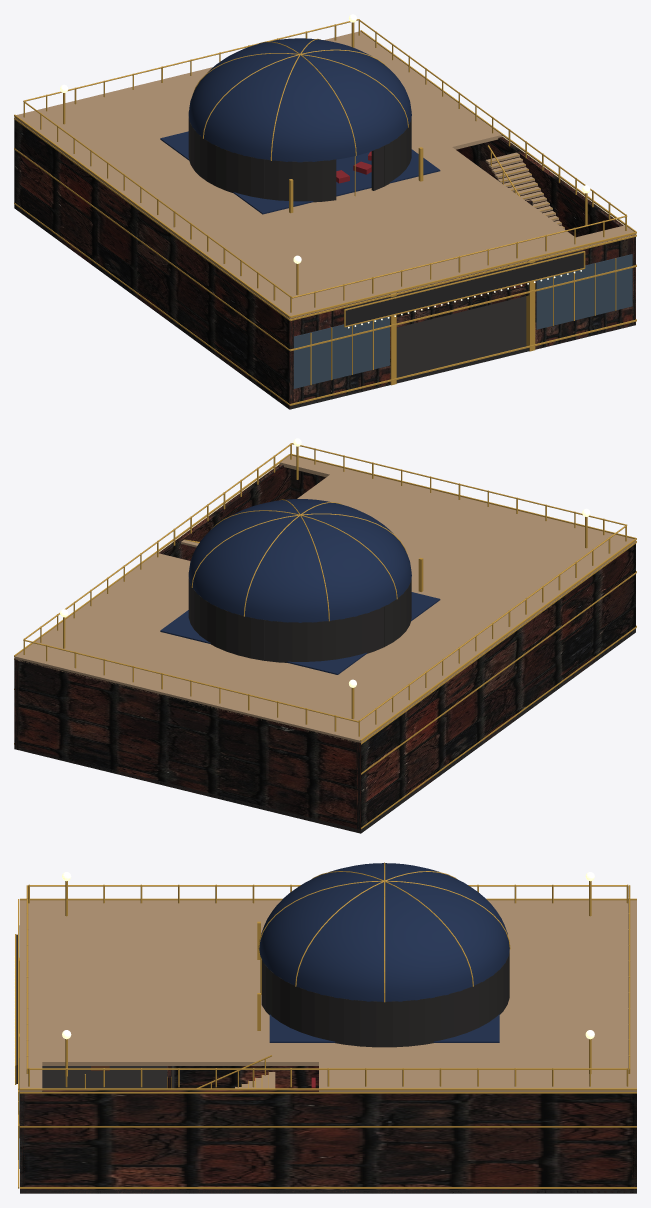
File: cinema-planetarium-v2.glb
The picture shows the model from 3 angles, top to bottom: view 1: azimuth 30°, elevation 25°; view 2: azimuth 150°, elevation 25°; view 3: azimuth 270°, elevation 25°; orthographic projection. The views are drawn at different scales.
Parts seen in each view (by area): view 1: CinemaExterior_Sandstone, CinemaExterior_Oxblood brick, CinemaExterior_Planetarium midnight, CinemaExterior_Black lacquer, CinemaExterior_Warm brass, CinemaExterior_Smoked window, PlanetariumInterior_Planetarium midnight, CinemaInterior_Sandstone, CinemaInterior_Warm brass; view 2: CinemaExterior_Oxblood brick, CinemaExterior_Sandstone, CinemaExterior_Planetarium midnight, CinemaExterior_Black lacquer, CinemaExterior_Warm brass, PlanetariumInterior_Planetarium midnight; view 3: CinemaExterior_Sandstone, CinemaExterior_Oxblood brick, CinemaExterior_Planetarium midnight, CinemaExterior_Black lacquer, CinemaExterior_Warm brass, CinemaInterior_Oxblood brick, PlanetariumInterior_Planetarium midnight.
Boxes of the visible parts, left/top/right/bottom form: CinemaExterior_Sandstone: left=14, top=31, right=635, bottom=318; CinemaExterior_Oxblood brick: left=14, top=120, right=635, bottom=409; CinemaExterior_Planetarium midnight: left=188, top=38, right=411, bottom=162; CinemaExterior_Black lacquer: left=14, top=111, right=635, bottom=409; CinemaExterior_Warm brass: left=14, top=19, right=636, bottom=405; CinemaExterior_Smoked window: left=293, top=254, right=632, bottom=388; PlanetariumInterior_Planetarium midnight: left=160, top=131, right=440, bottom=214; CinemaInterior_Sandstone: left=485, top=152, right=564, bottom=229; CinemaInterior_Warm brass: left=488, top=145, right=564, bottom=227; CinemaExterior_Oxblood brick: left=14, top=464, right=635, bottom=833; CinemaExterior_Sandstone: left=14, top=455, right=635, bottom=742; CinemaExterior_Planetarium midnight: left=188, top=499, right=411, bottom=622; CinemaExterior_Black lacquer: left=14, top=571, right=635, bottom=833; CinemaExterior_Warm brass: left=14, top=443, right=636, bottom=829; PlanetariumInterior_Planetarium midnight: left=160, top=592, right=440, bottom=674; CinemaExterior_Sandstone: left=20, top=900, right=636, bottom=1091; CinemaExterior_Oxblood brick: left=20, top=1090, right=636, bottom=1193; CinemaExterior_Planetarium midnight: left=259, top=863, right=509, bottom=1001; CinemaExterior_Black lacquer: left=16, top=934, right=636, bottom=1193; CinemaExterior_Warm brass: left=15, top=862, right=636, bottom=1188; CinemaInterior_Oxblood brick: left=167, top=1066, right=318, bottom=1088; PlanetariumInterior_Planetarium midnight: left=269, top=1014, right=499, bottom=1042.
Bounding box in the file's own units: 24.06 × 12.86 × 33.32.
11 materials, 1 textured.
